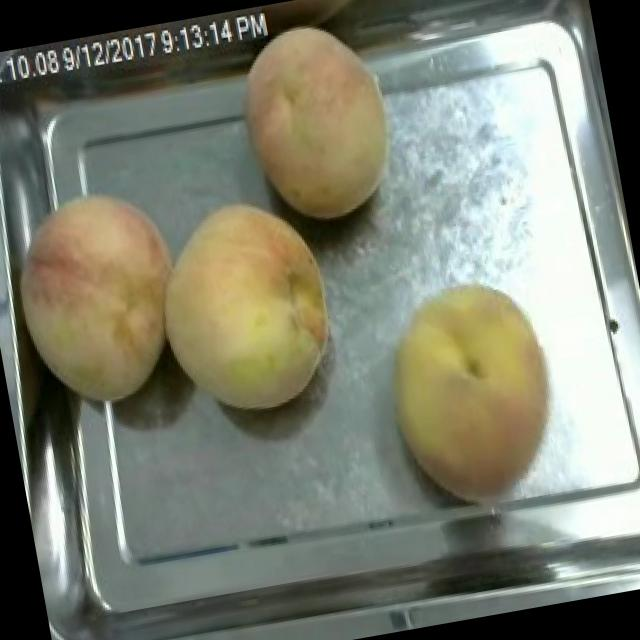Fruit: (136, 178, 354, 432), (362, 264, 579, 518), (0, 168, 207, 424), (216, 2, 415, 242)
